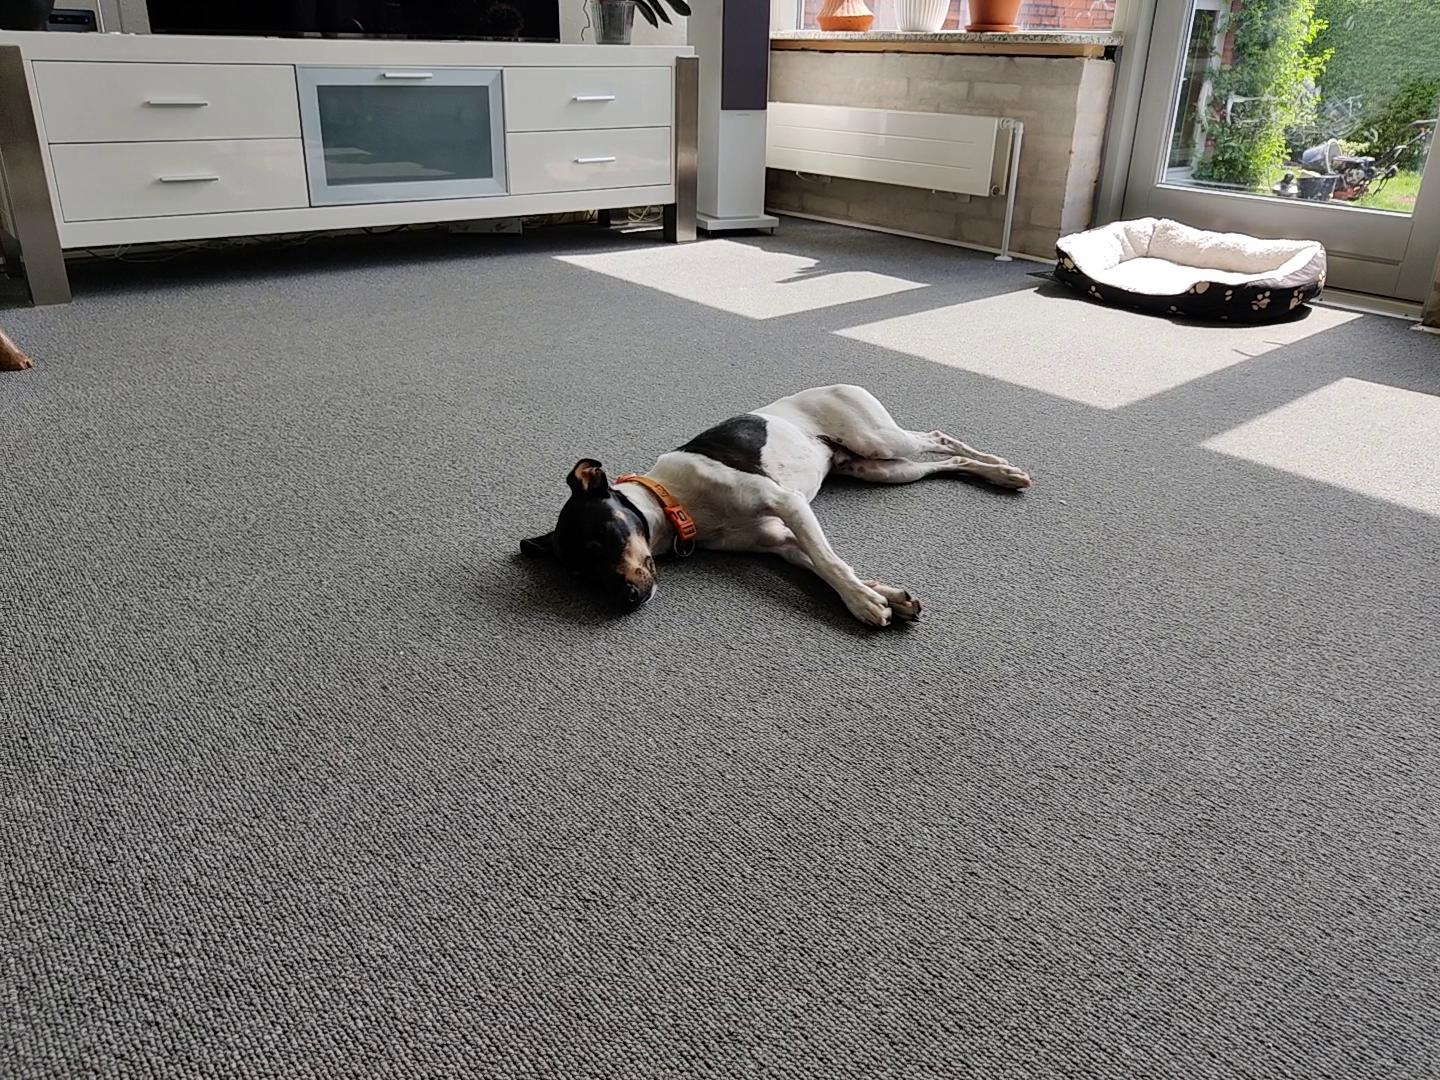Dog: (493, 368, 1057, 640)
